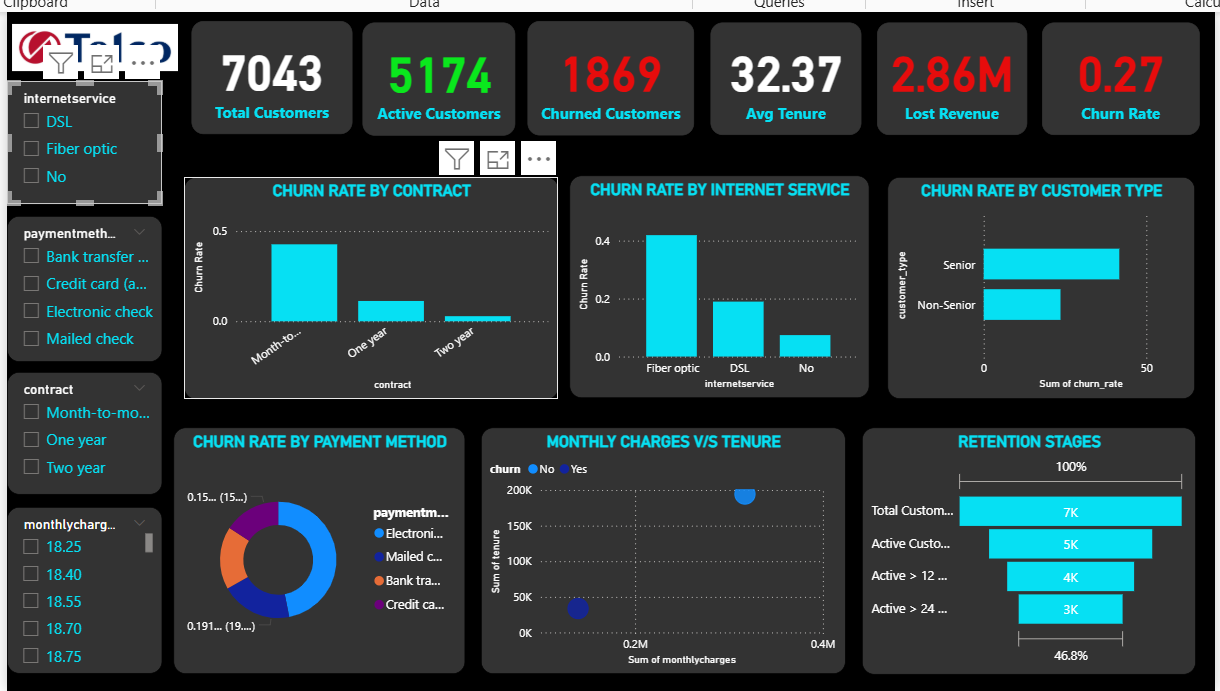

The dashboard page shown, as its layout file describes it:
{"tool":"powerbi","page":{"name":"CHURN ANALYSIS DASHBOARD","canvas":[1280,720],"ordinal":3},"visuals":[{"type":"image","box":[0,0,186.5,74.8],"z":0},{"type":"card","fields":{"Values":["raw_data.Churn Rate"]},"box":[1097,11,167,119],"z":1000},{"type":"card","fields":{"Values":["raw_data.Lost Revenue"]},"box":[923,11,159,119],"z":2000},{"type":"card","fields":{"Values":["raw_data.Churned Customers"]},"box":[552.2,9.8,176.7,121.5],"z":3000},{"type":"card","fields":{"Values":["raw_data.Total Customers"]},"box":[195.1,9.8,170.6,120.2],"z":4000},{"type":"card","fields":{"Values":["raw_data.Avg Tenure"]},"box":[746,11,160,119],"z":5000},{"type":"card","fields":{"Values":["raw_data.Active Customers"]},"box":[376.7,11,162,120.2],"z":6000},{"type":"slicer","fields":{"Values":["raw_data.contract"]},"box":[0,381.6,164.4,130.1],"z":7000},{"type":"slicer","fields":{"Values":["raw_data.monthlycharges"]},"box":[0,525.2,164.4,176.7],"z":8000},{"type":"slicer","fields":{"Values":["raw_data.paymentmethod"]},"box":[0,216,164.4,154.6],"z":9000},{"type":"slicer","fields":{"Values":["raw_data.internetservice"]},"box":[0,72.4,164.4,131.3],"z":10000},{"type":"columnChart","title":"CHURN RATE BY CONTRACT","fields":{"Y":["raw_data.Churn Rate"],"Category":["raw_data.contract"]},"box":[187,175,397,236],"z":11000},{"type":"columnChart","title":"CHURN RATE BY INTERNET SERVICE","fields":{"Y":["raw_data.Churn Rate"],"Category":["raw_data.internetservice"]},"box":[597,174,318,236],"z":12000},{"type":"donutChart","title":"CHURN RATE BY PAYMENT METHOD","fields":{"Y":["raw_data.Churn Rate"],"Category":["raw_data.paymentmethod"]},"box":[176.7,440.5,309.2,261.4],"z":13000},{"type":"barChart","title":"CHURN RATE BY CUSTOMER TYPE","fields":{"Y":["Sum(churn_rate_by_senior_citizen.churn_rate)"],"Category":["churn_rate_by_senior_citizen.customer_type"]},"box":[934,175,326,235],"z":14000},{"type":"funnel","title":"RETENTION STAGES","fields":{"Y":["RetentionStages.Customers"],"Category":["RetentionStages.Stage"]},"box":[906,440,354,262],"z":15000},{"type":"scatterChart","title":"MONTHLY CHARGES V/S TENURE","fields":{"X":["Sum(raw_data.monthlycharges)"],"Y":["Sum(raw_data.tenure)"],"Size":["raw_data.Churned Customers"],"Series":["raw_data.churn"]},"box":[503.1,440.5,386.5,261.4],"z":16000}]}

Visuals, with their boxes on the page's 1280x720 design canvas (x1, y1, x2, y2). These are canvas units, not pixel positions in the 1220x691 screenshot, which may show the page scaled, cropped or inside an application window:
image: 0 0 186 75
card - raw_data.Churn Rate: 1097 11 1264 130
card - raw_data.Lost Revenue: 923 11 1082 130
card - raw_data.Churned Customers: 552 10 729 131
card - raw_data.Total Customers: 195 10 366 130
card - raw_data.Avg Tenure: 746 11 906 130
card - raw_data.Active Customers: 377 11 539 131
slicer - raw_data.contract: 0 382 164 512
slicer - raw_data.monthlycharges: 0 525 164 702
slicer - raw_data.paymentmethod: 0 216 164 371
slicer - raw_data.internetservice: 0 72 164 204
"CHURN RATE BY CONTRACT" columnChart: 187 175 584 411
"CHURN RATE BY INTERNET SERVICE" columnChart: 597 174 915 410
"CHURN RATE BY PAYMENT METHOD" donutChart: 177 440 486 702
"CHURN RATE BY CUSTOMER TYPE" barChart: 934 175 1260 410
"RETENTION STAGES" funnel: 906 440 1260 702
"MONTHLY CHARGES V/S TENURE" scatterChart: 503 440 890 702
